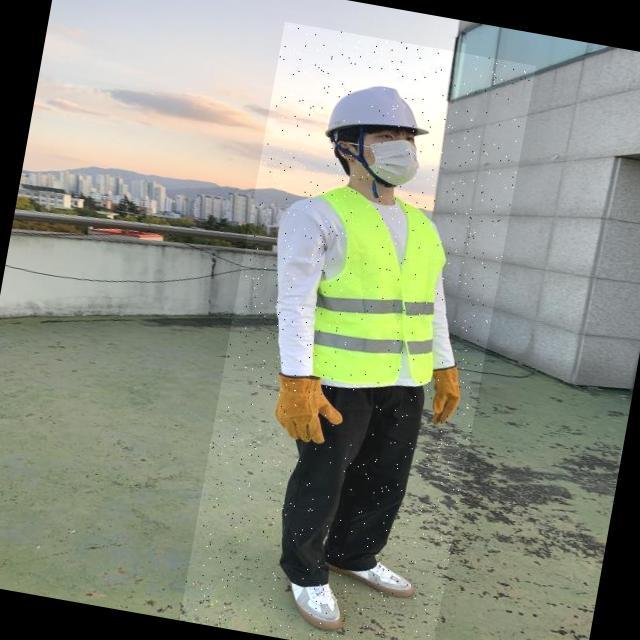Gloves: (266, 369, 350, 448), (425, 360, 466, 429)
Helmet: (325, 77, 435, 155)
Human: (178, 21, 535, 640)
Safety Boot: (320, 553, 418, 601), (280, 576, 350, 634)
Safety Vest: (284, 182, 461, 397)
